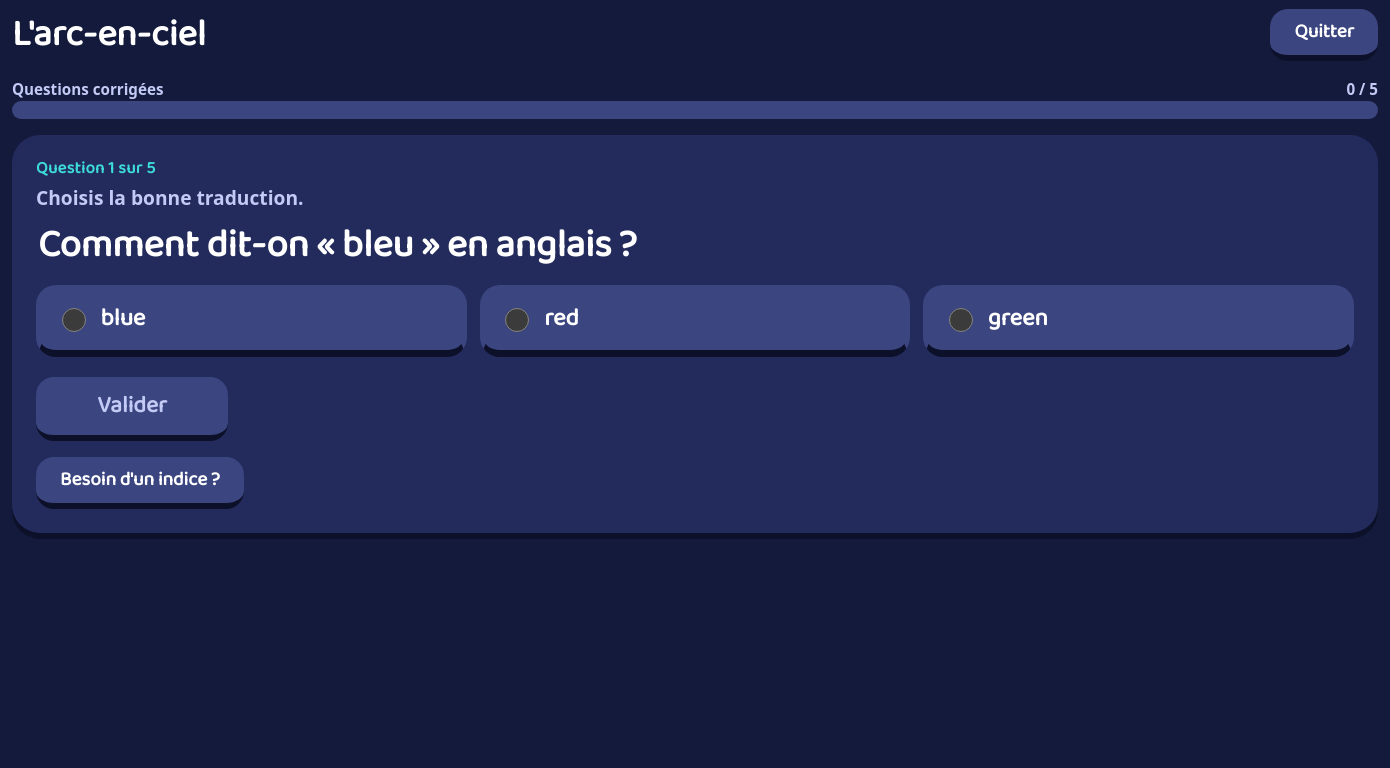
écran de mission › affiche la correction serveur et ne soumet qu’une fois malgré un double clic
This screenshot has width=1390, height=768.
Click the radio button labelled "red" at (517, 320), box [505, 308, 529, 332]
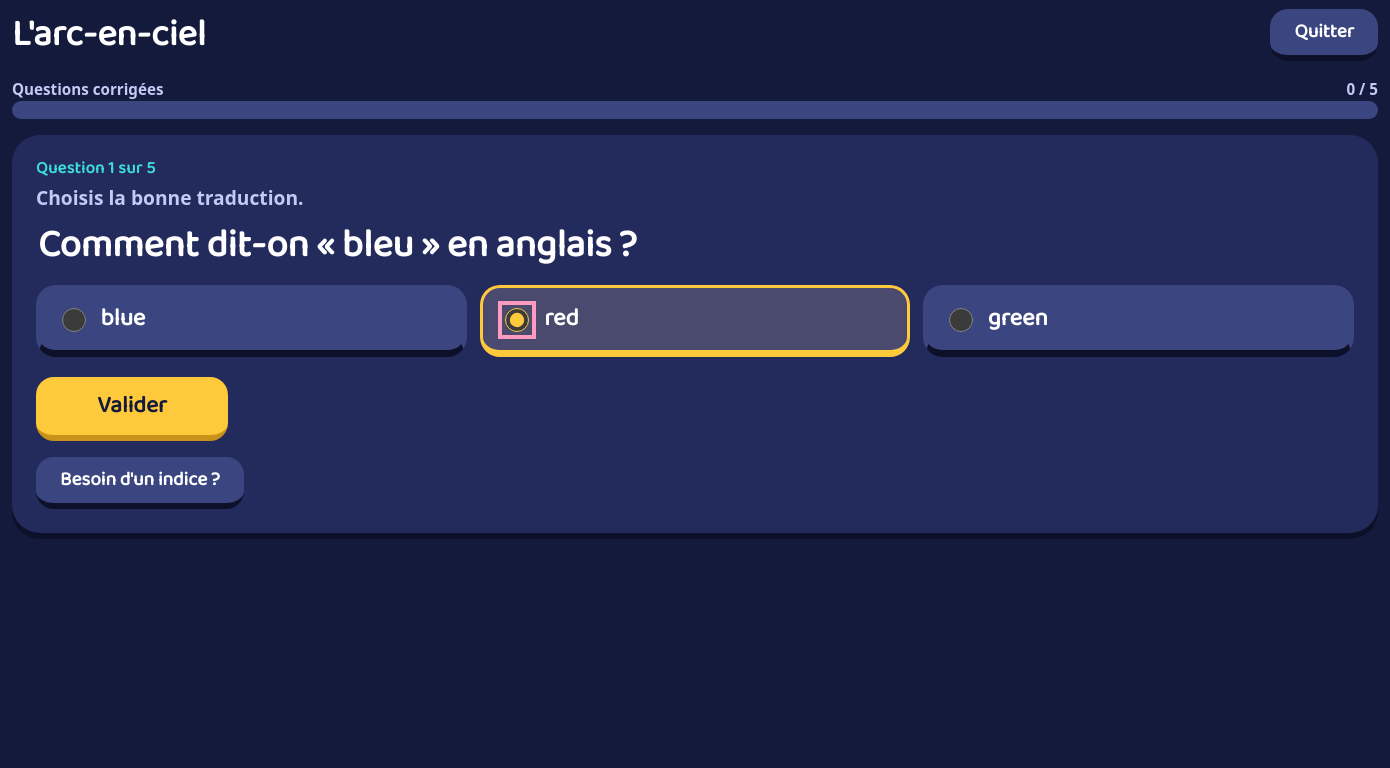
Double-click the button "Valider" at (132, 409), box [36, 377, 228, 441]
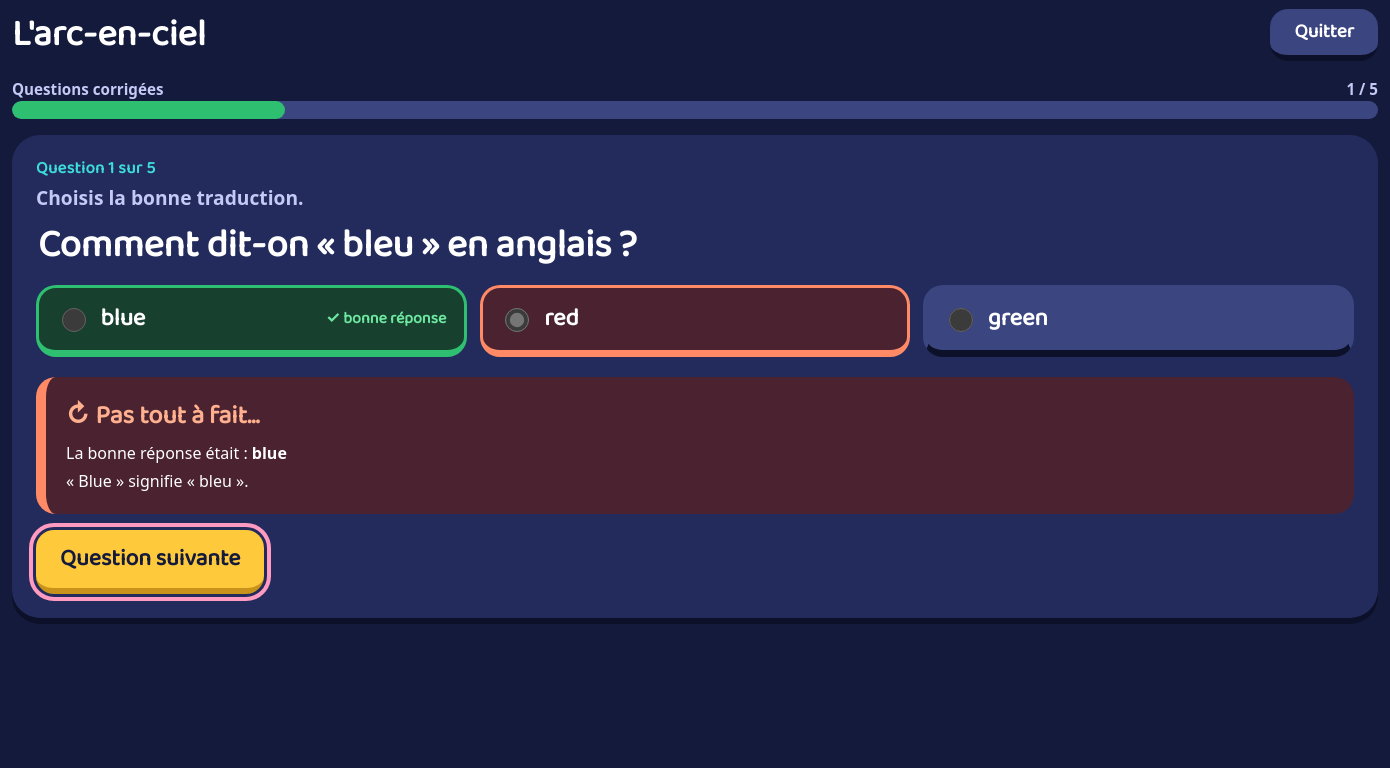
Now the text "Pas tout à fait…" is shown, box [96, 395, 259, 436]
Now the text "« Blue » signifie « bleu »." is shown, box [66, 470, 248, 492]
